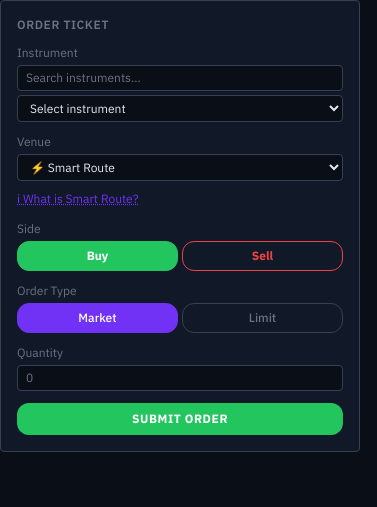
it: OrderTicket › shows held position quantity when sell is selected
Select "BTC/USD - Bitcoin" in the dropdown labelled "Instrument". click: point(180, 108)
box: [17, 95, 343, 122]
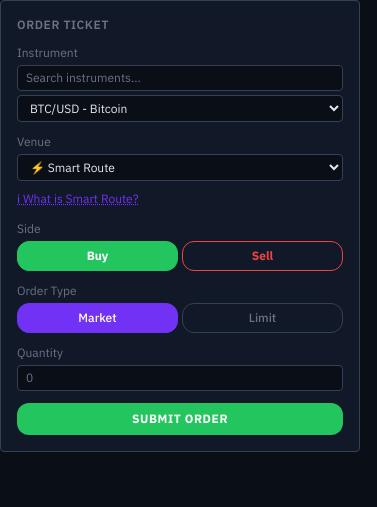
Click the button "Sell". click: point(262, 256)
box: [182, 241, 343, 271]
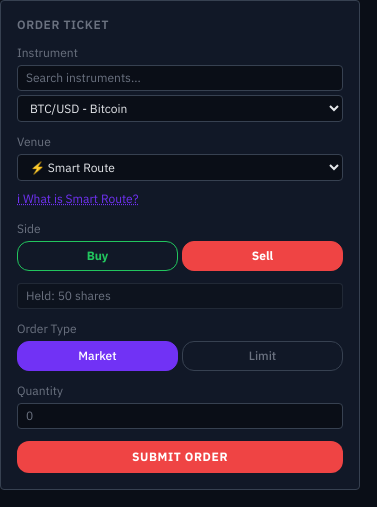
Expected: the text "Held: 50 shares" is shown, [17, 283, 343, 309]
